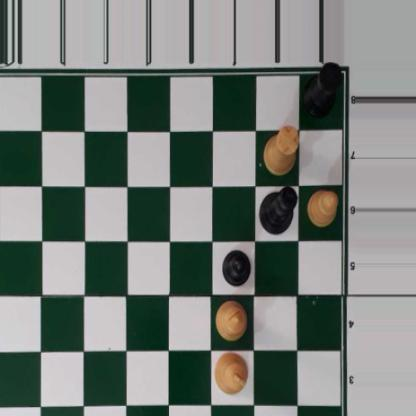black-king: (257, 186, 297, 233)
black-pawn: (222, 247, 251, 286)
black-rook: (302, 62, 341, 118)
white-bishop: (216, 299, 247, 340)
white-king: (212, 349, 249, 396)
white-pawn: (306, 187, 339, 228)
white-rook: (261, 123, 299, 175)
